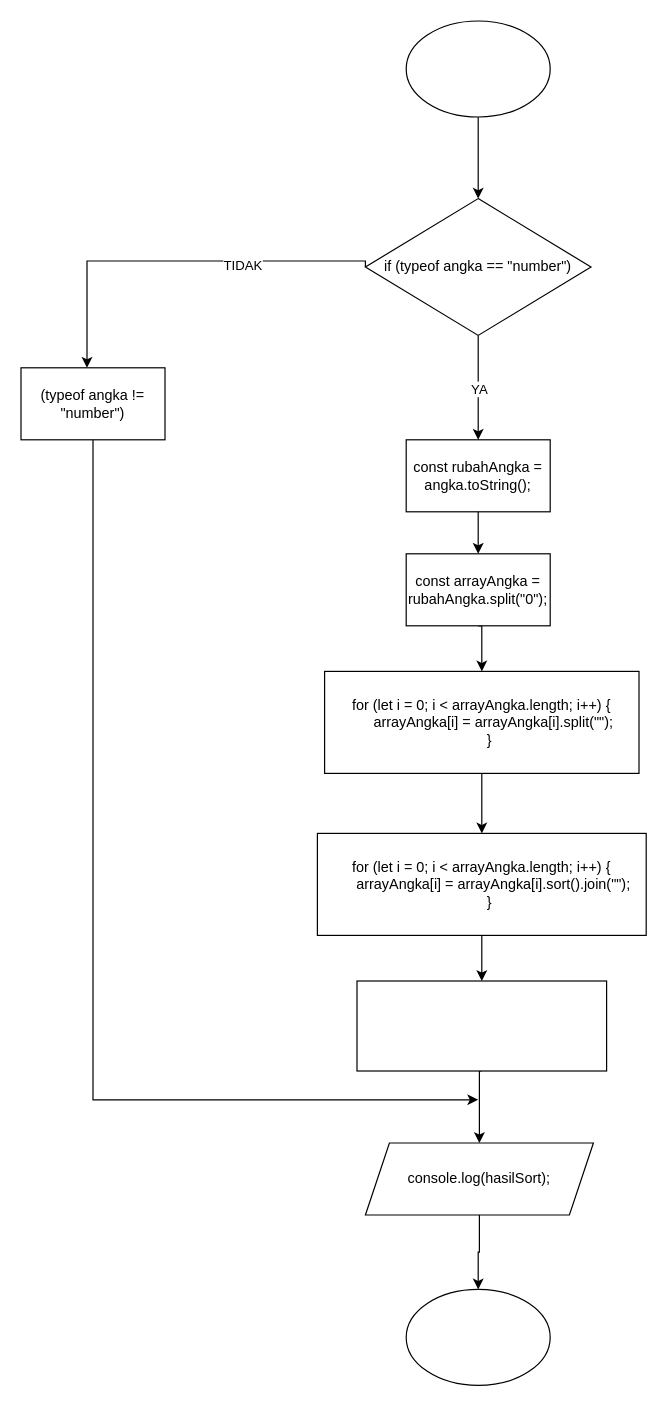
The diagram is 667 pixels wide and 1406 high, and some of its shapes have lost their labels. The centre of each missing label's shape, as x and y in pixels:
const hasilSort = arrayAngka.join("");: pixel 481 1025
mulai: pixel 477 68
selesai: pixel 477 1336
